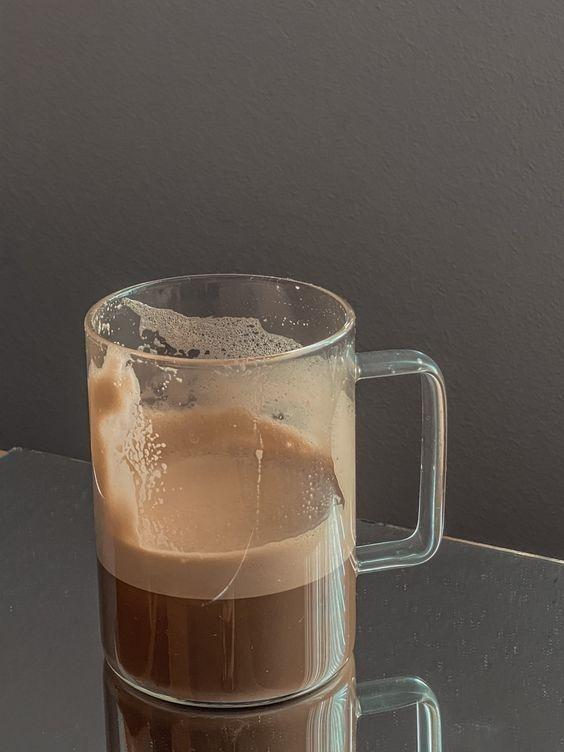glass-mug: (76, 268, 455, 744)
